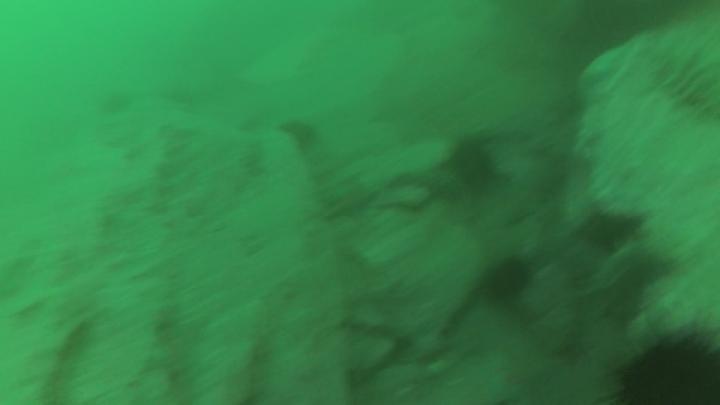echinus: (615, 331, 718, 404), (447, 137, 499, 192), (578, 208, 643, 252), (480, 255, 533, 304), (277, 116, 322, 155)
holothurian: (651, 33, 720, 121)
starfish: (322, 178, 378, 222)
